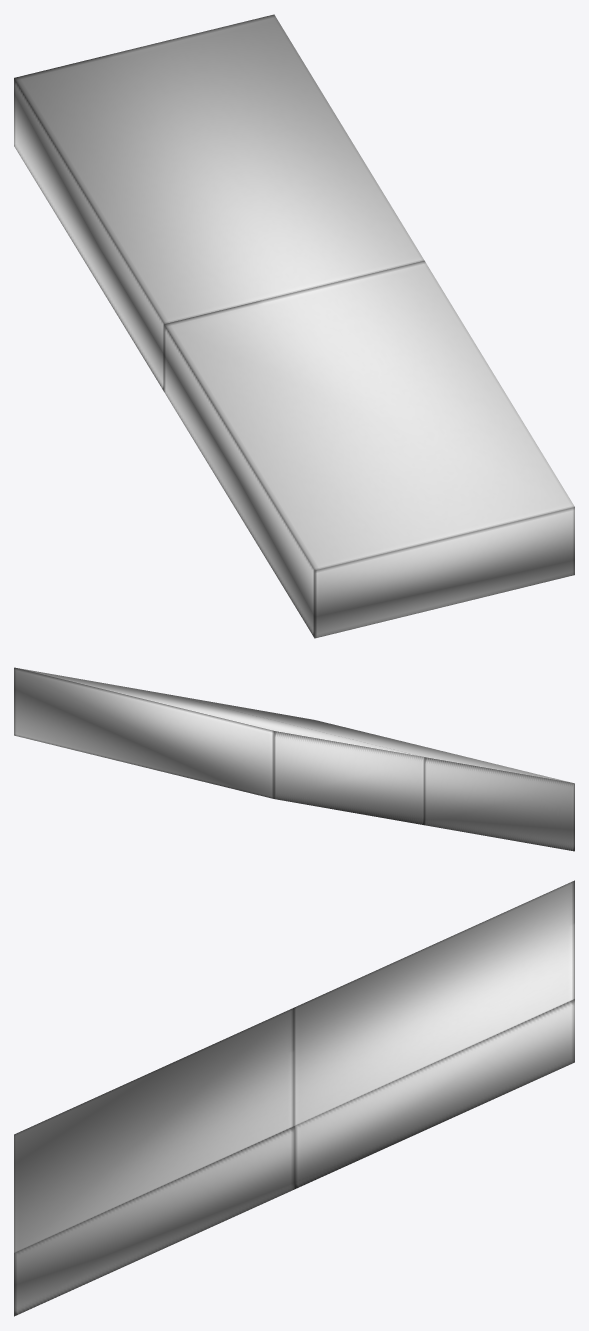
Rendered from Ramp-07.fbx.
3 views of the same model, one above another, from view 1: azimuth 30°, elevation 25°; view 2: azimuth 150°, elevation 25°; view 3: azimuth 270°, elevation 25° (orthographic). The views are drawn at different scales.
Visible parts, largest first — view 1: Ramp-07; view 2: Ramp-07; view 3: Ramp-07.
Boxes of the visible parts, x1,y1,x2,y2 form: Ramp-07: (14, 14, 574, 638); Ramp-07: (14, 667, 574, 851); Ramp-07: (14, 880, 574, 1316).
Size of the model in its own units: 1 by 1.25 by 2.
